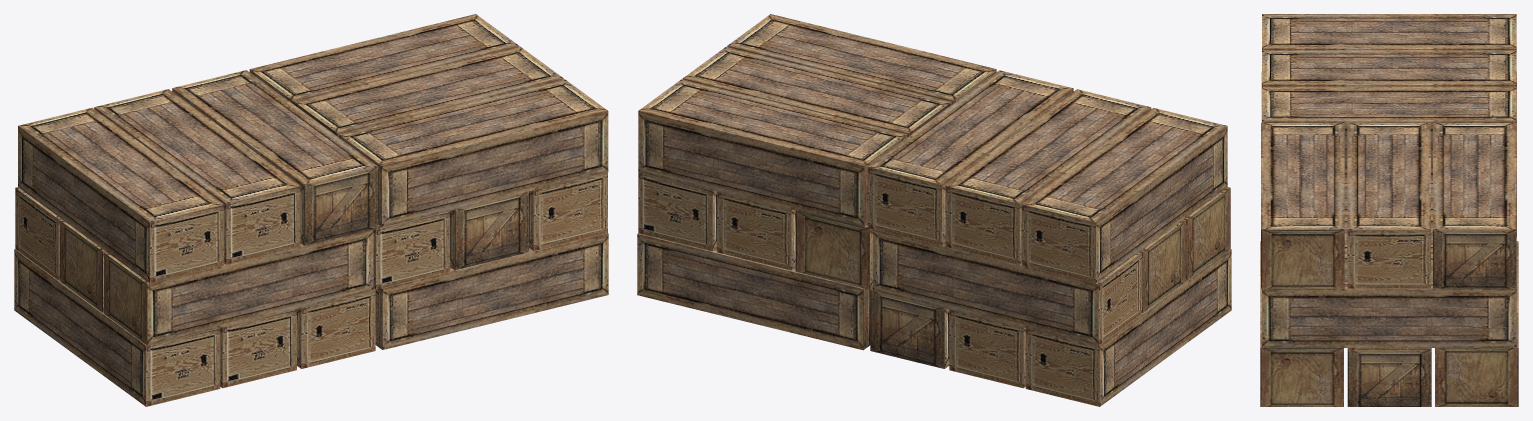
The model's file is WpnCt4.glb.
3 views of the same model, side by side, from view 1: azimuth 30°, elevation 25°; view 2: azimuth 150°, elevation 25°; view 3: azimuth 270°, elevation 25° (orthographic). The views are drawn at different scales.
Visible parts, largest first — view 1: _WpnCt4; view 2: _WpnCt4; view 3: _WpnCt4.
Boxes of the visible parts, x1,y1,x2,y2 form: _WpnCt4: (14, 14, 608, 406); _WpnCt4: (637, 14, 1231, 406); _WpnCt4: (1260, 14, 1518, 406).
Size of the model in its own units: 3.95 by 1.5 by 1.98.
1 material, 1 textured.
